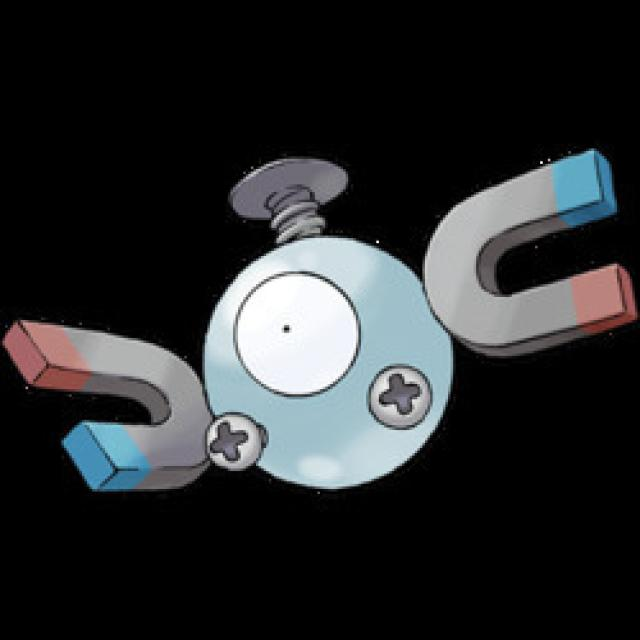Magnemite: (12, 153, 639, 492)
